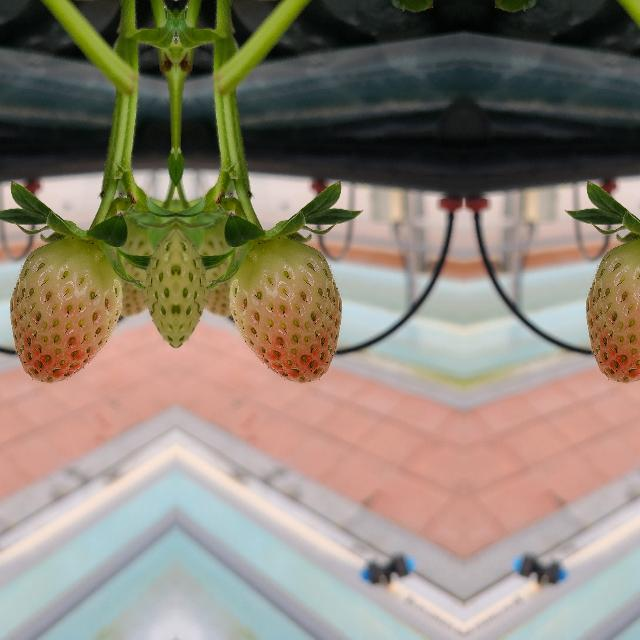Health_50: (229, 237, 341, 383), (9, 237, 121, 383), (585, 237, 640, 383)
